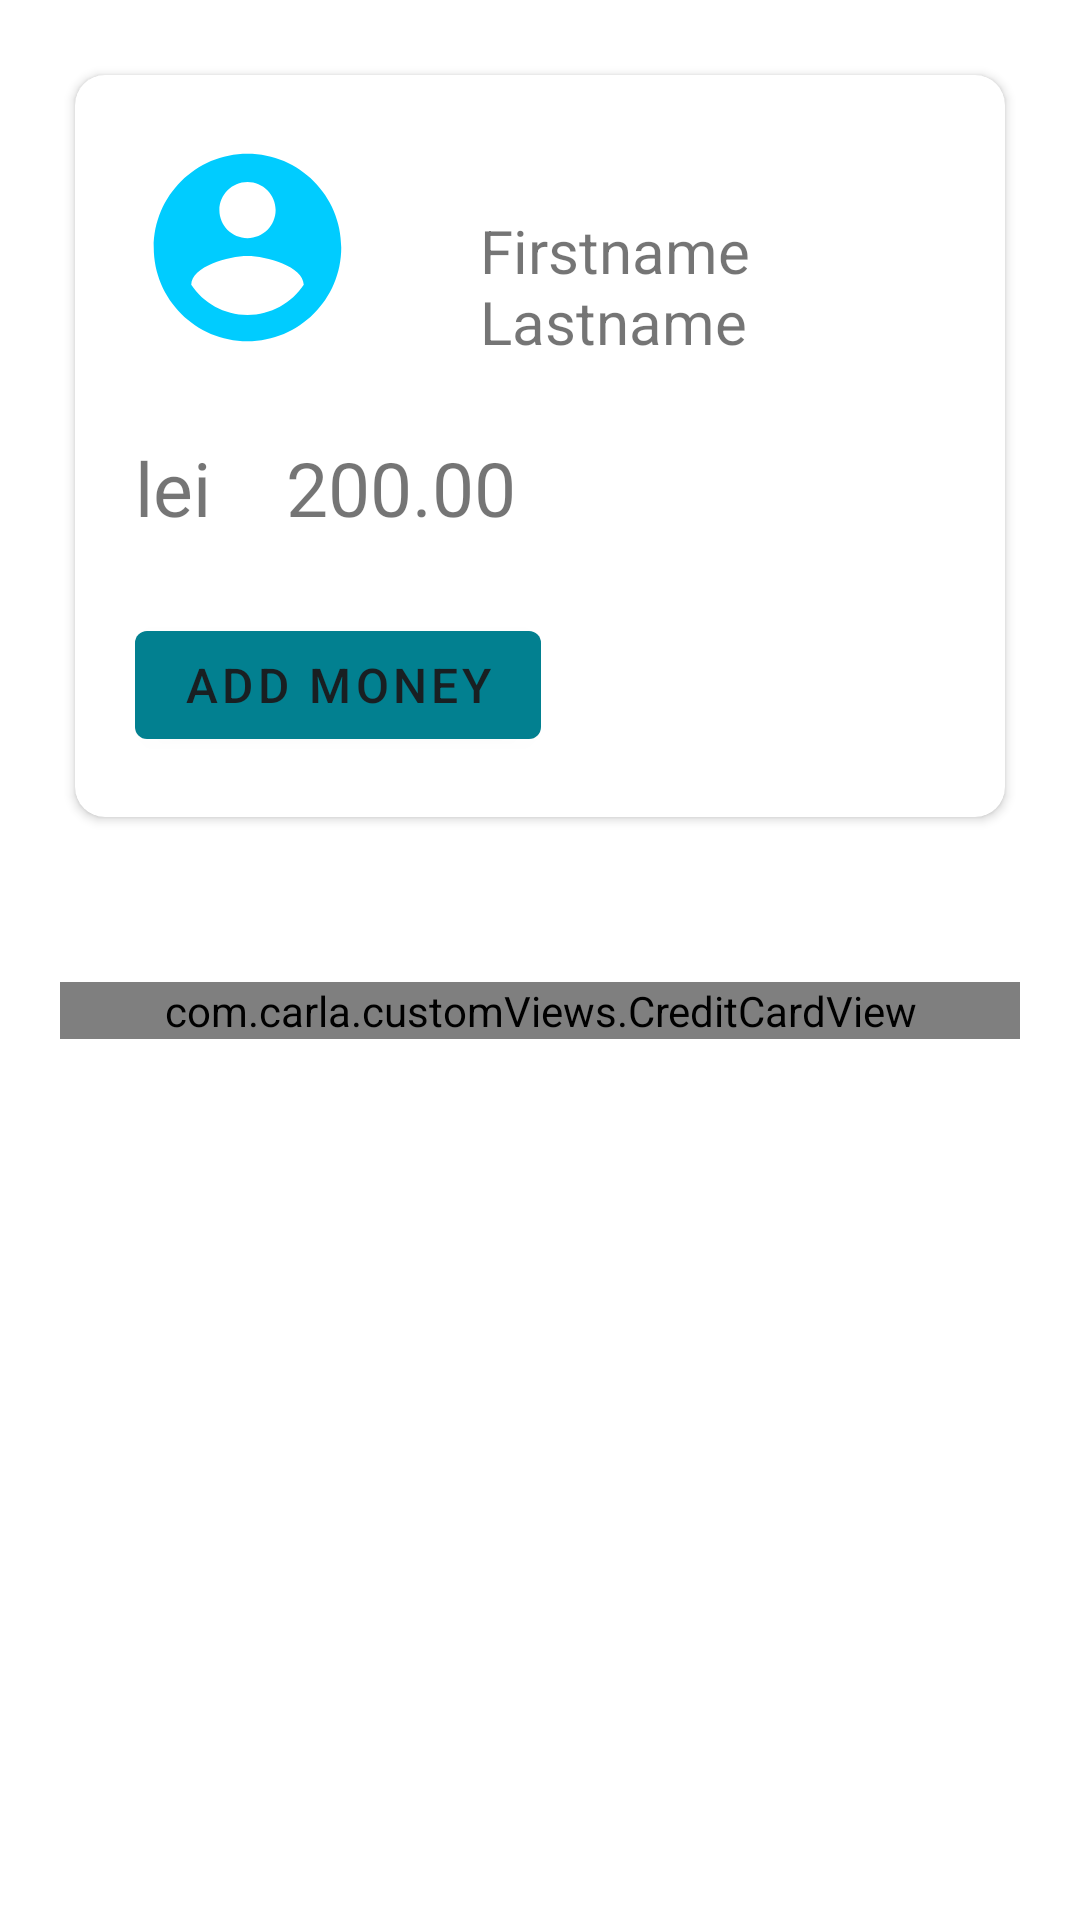

Where to tap for icons on this 1080px×1920px app screen, as point (x, y):
account circle: point (247, 247)
